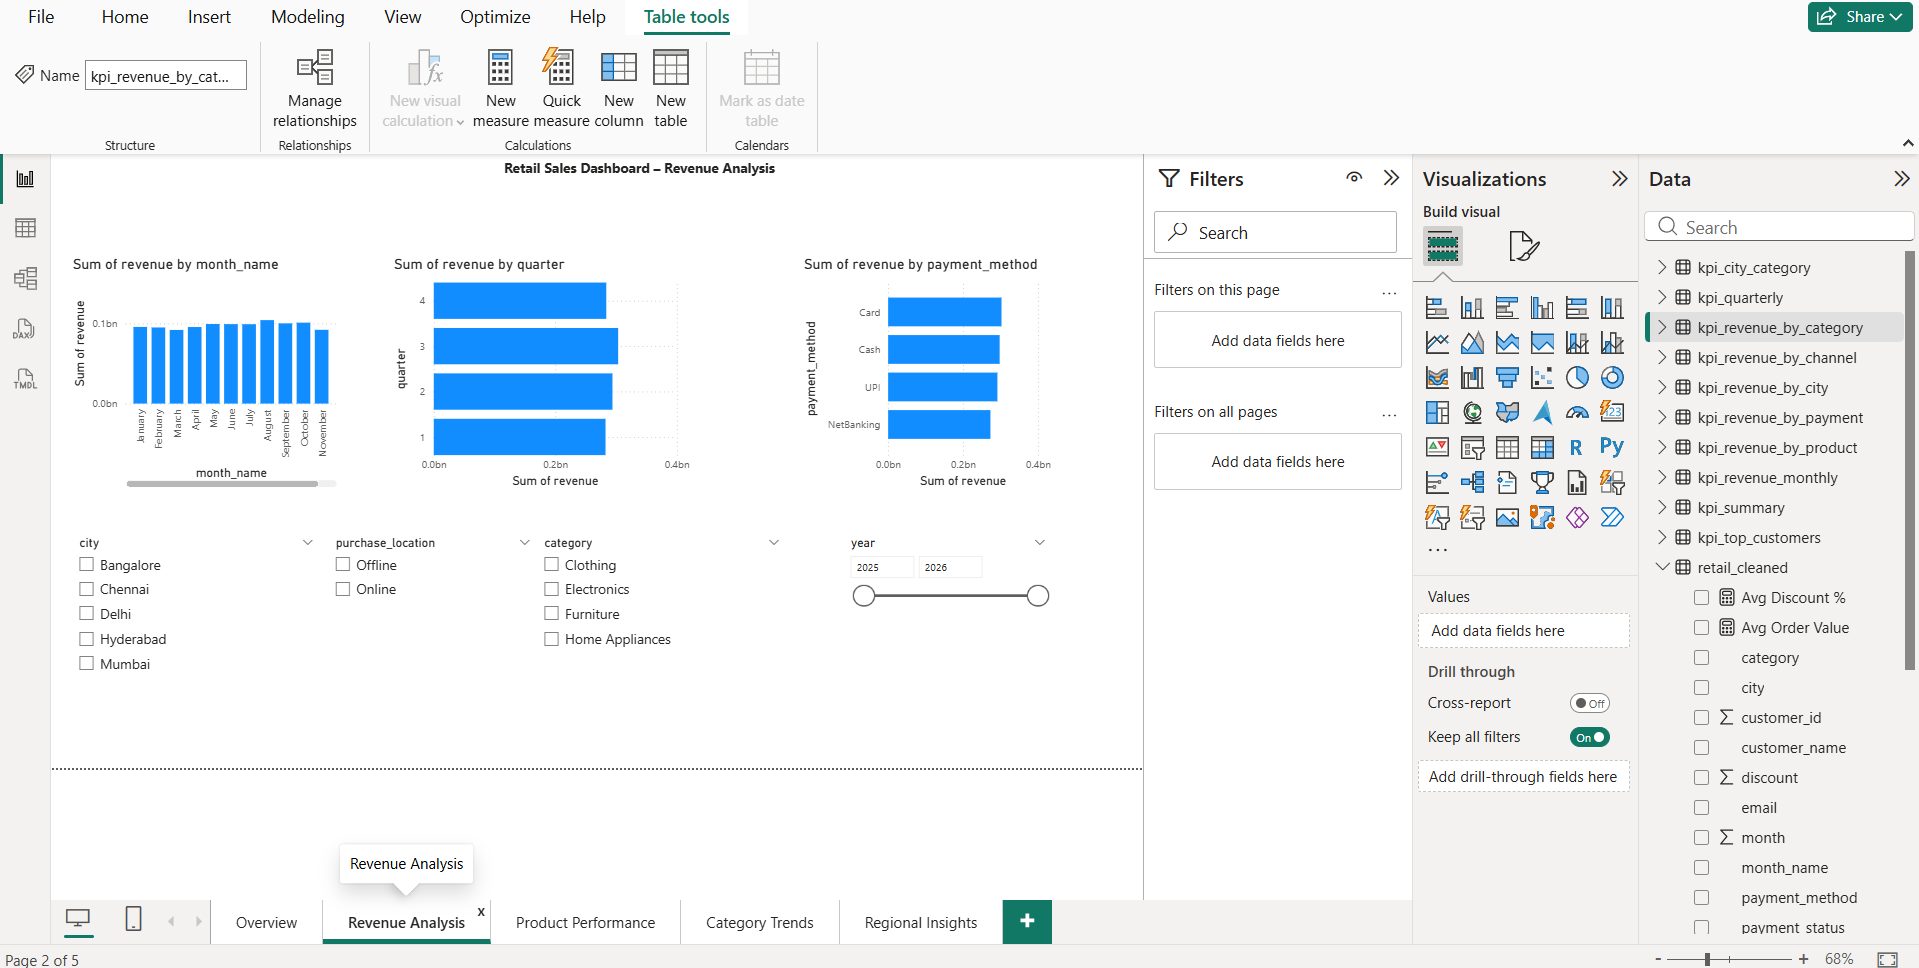

Layout of this report page (visuals, bound fields, positions):
{"tool":"powerbi","page":{"name":"Revenue Analysis","canvas":[1280,720],"ordinal":1},"visuals":[{"type":"textbox","box":[526.6,0,339.9,68.3],"z":0},{"type":"clusteredBarChart","fields":{"Category":["retail_cleaned.quarter"],"Y":["Sum(retail_cleaned.revenue)"]},"box":[397,118.4,356.6,277.2],"z":1000},{"type":"barChart","fields":{"Category":["retail_cleaned.payment_method"],"Y":["Sum(retail_cleaned.revenue)"]},"box":[877.7,118.4,299.5,277.2],"z":2000},{"type":"slicer","fields":{"Values":["retail_cleaned.city"]},"box":[20.9,443,299.5,277.2],"z":3000},{"type":"slicer","fields":{"Values":["retail_cleaned.category"]},"box":[565.6,443,300.9,277.2],"z":4000},{"type":"slicer","fields":{"Values":["retail_cleaned.year"]},"box":[923.6,443,253.5,277.2],"z":5000},{"type":"slicer","fields":{"Values":["retail_cleaned.purchase_location"]},"box":[320.4,443,253.5,277.2],"z":6000},{"type":"clusteredColumnChart","fields":{"Category":["retail_cleaned.month_name"],"Y":["Sum(retail_cleaned.revenue)"]},"box":[20.5,118.7,319.3,276.9],"z":7000}]}

Visuals, with their boxes on the page's 1280x720 design canvas (x1, y1, x2, y2). These are canvas units, not pixel positions in the 1919x968 screenshot, which may show the page scaled, cropped or inside an application window:
textbox: 527, 0, 866, 68
clusteredBarChart - retail_cleaned.quarter x Sum(retail_cleaned.revenue): 397, 118, 754, 396
barChart - retail_cleaned.payment_method x Sum(retail_cleaned.revenue): 878, 118, 1177, 396
slicer - retail_cleaned.city: 21, 443, 320, 720
slicer - retail_cleaned.category: 566, 443, 866, 720
slicer - retail_cleaned.year: 924, 443, 1177, 720
slicer - retail_cleaned.purchase_location: 320, 443, 574, 720
clusteredColumnChart - retail_cleaned.month_name x Sum(retail_cleaned.revenue): 20, 119, 340, 396
